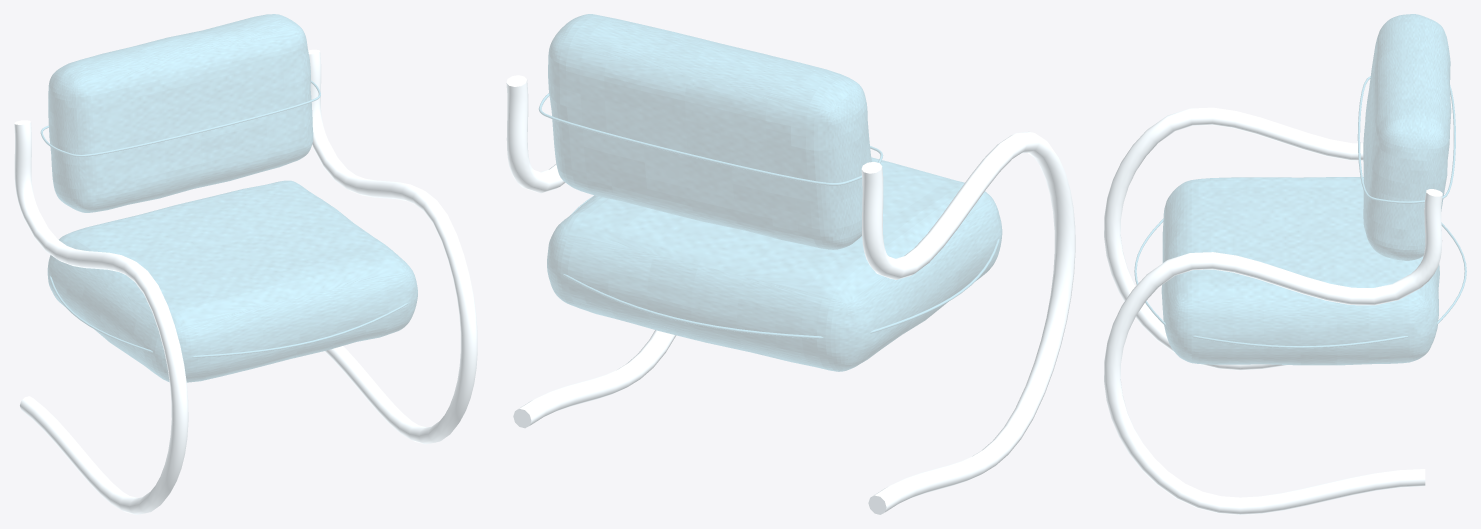
The model's file is ref06_08.glb.
The picture shows the model from 3 angles, left to right: view 1: azimuth 30°, elevation 25°; view 2: azimuth 150°, elevation 25°; view 3: azimuth 270°, elevation 25°; orthographic projection. The views are drawn at different scales.
Visible parts, largest first — view 1: ref06_08; view 2: ref06_08; view 3: ref06_08.
Boxes of the visible parts, x1,y1,x2,y2 form: ref06_08: [14, 14, 477, 514]; ref06_08: [506, 14, 1075, 514]; ref06_08: [1104, 14, 1466, 514].
Size of the model in its own units: 0.7818 by 0.902 by 0.7853.
2 materials, 1 textured.
